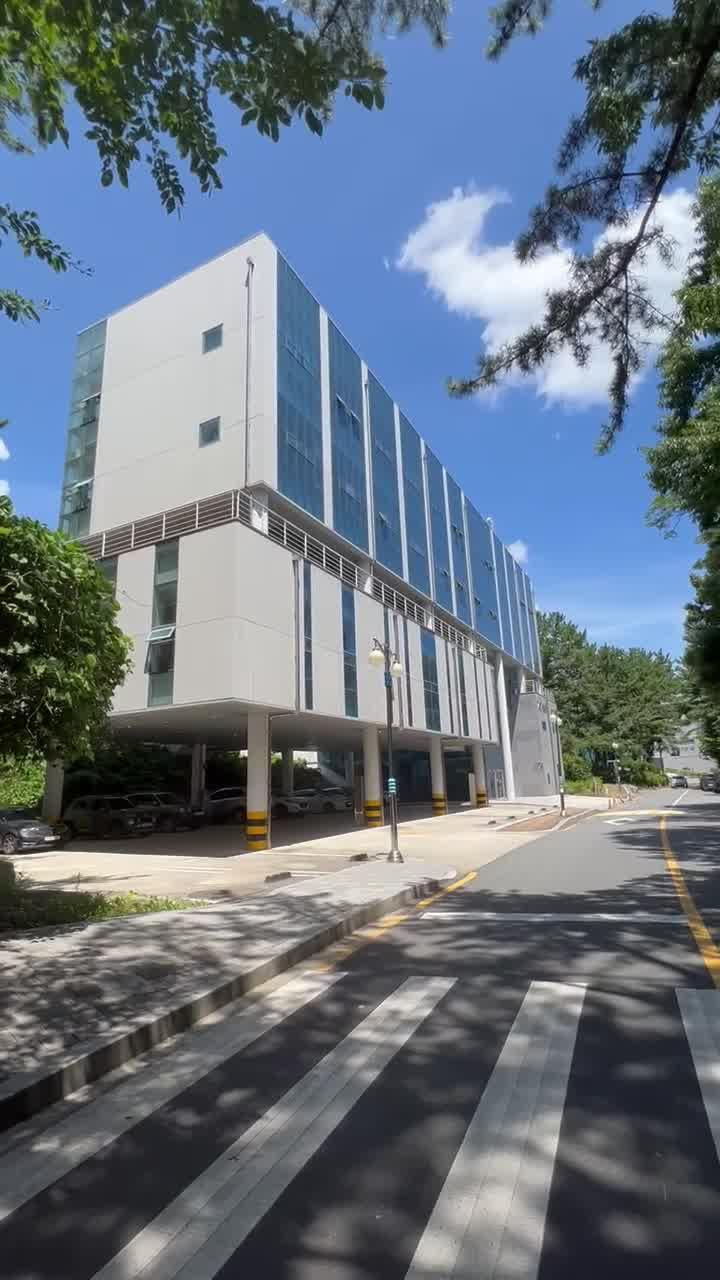building: (66, 284, 590, 810)
